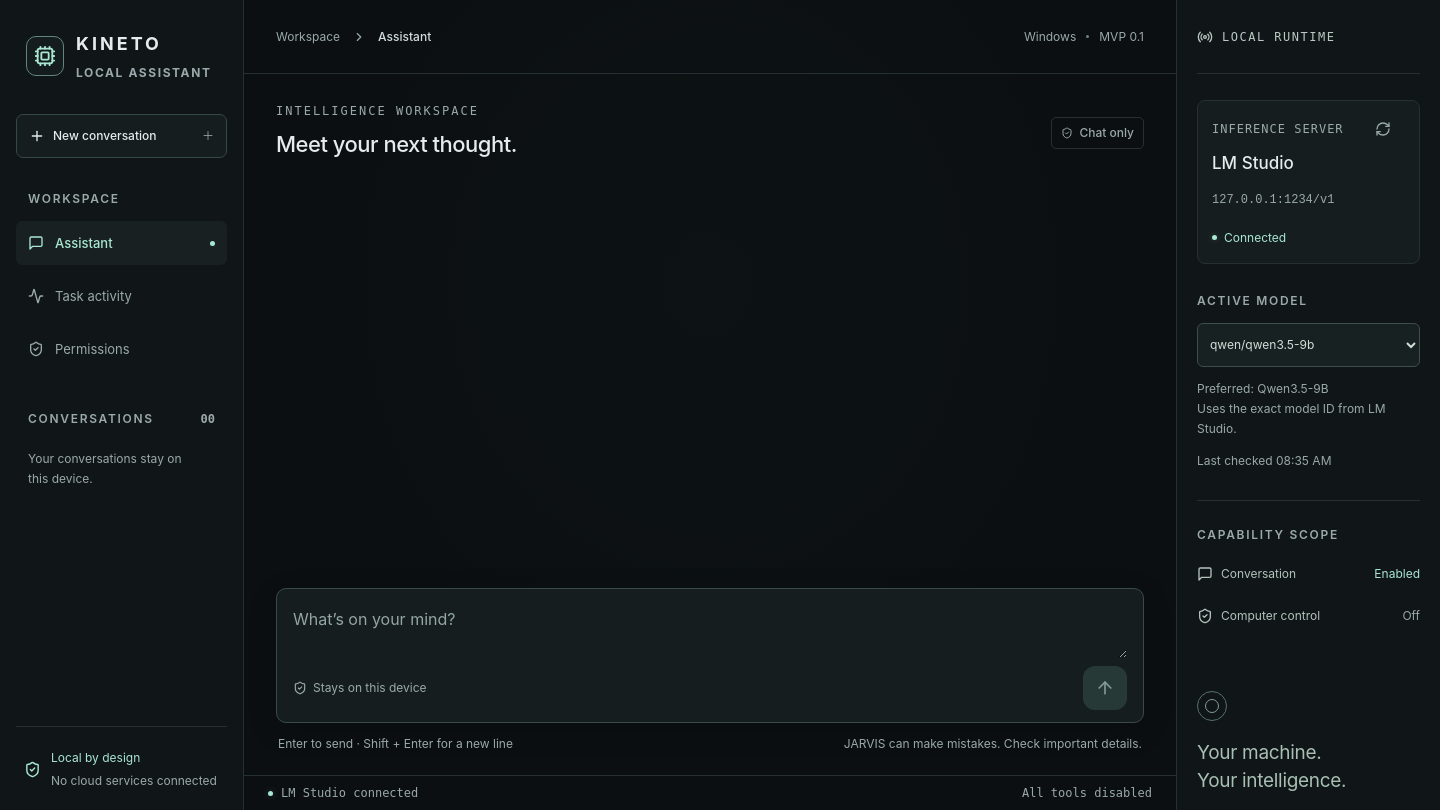
assistant workflow › streams a response, stops generation, and reloads durable history
Later steps or results of the test are not shown.
(page scrolled)
Expected: the dropdown labelled "ACTIVE MODEL" is enabled, [1197,322,1420,366]
In the text box named "Message JARVIS": coordinates (710, 630) [293,603,1127,658], type "Hello"
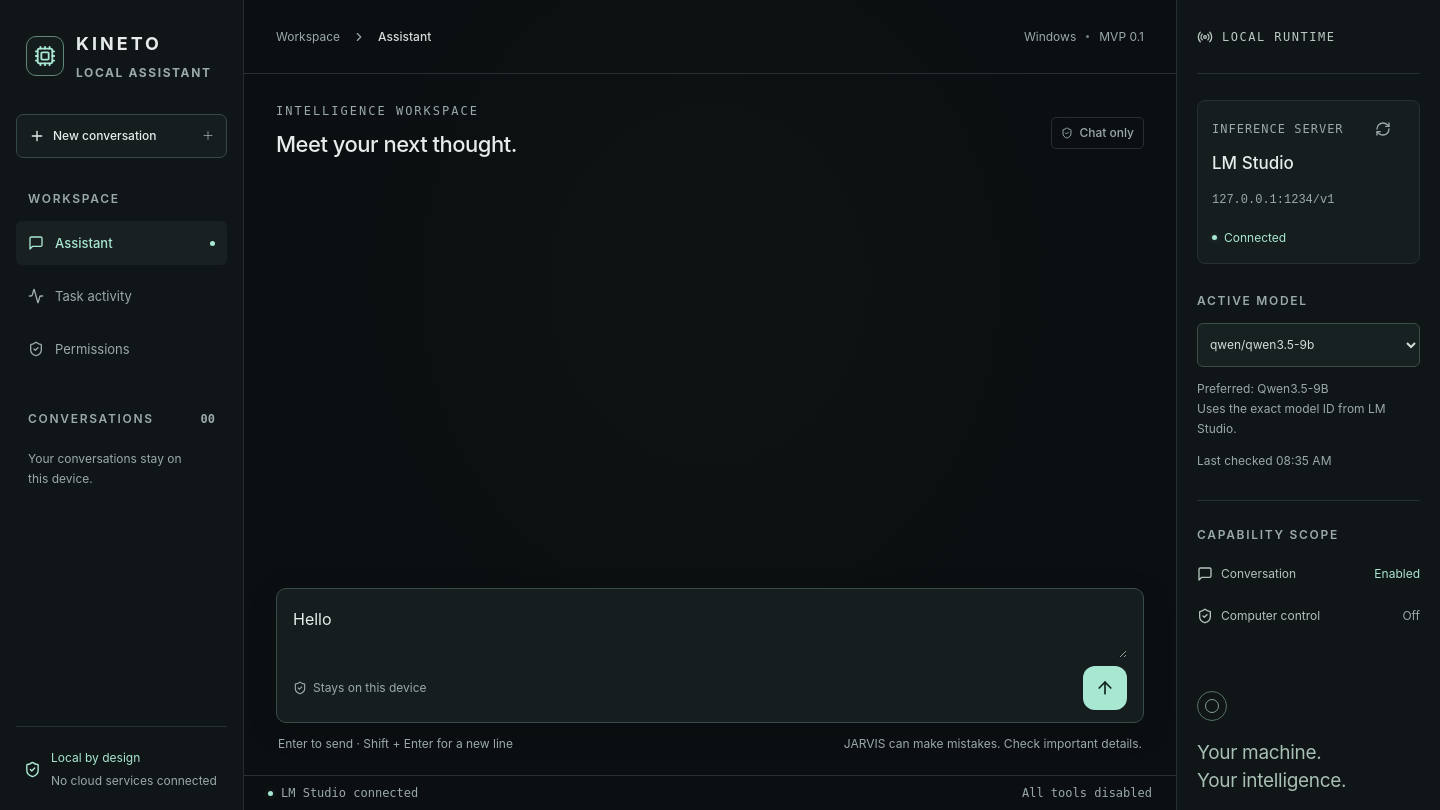
Now the button named "Send message" is enabled
Click the button named "Send message": coordinates (1105, 688) [1083,666,1127,710]
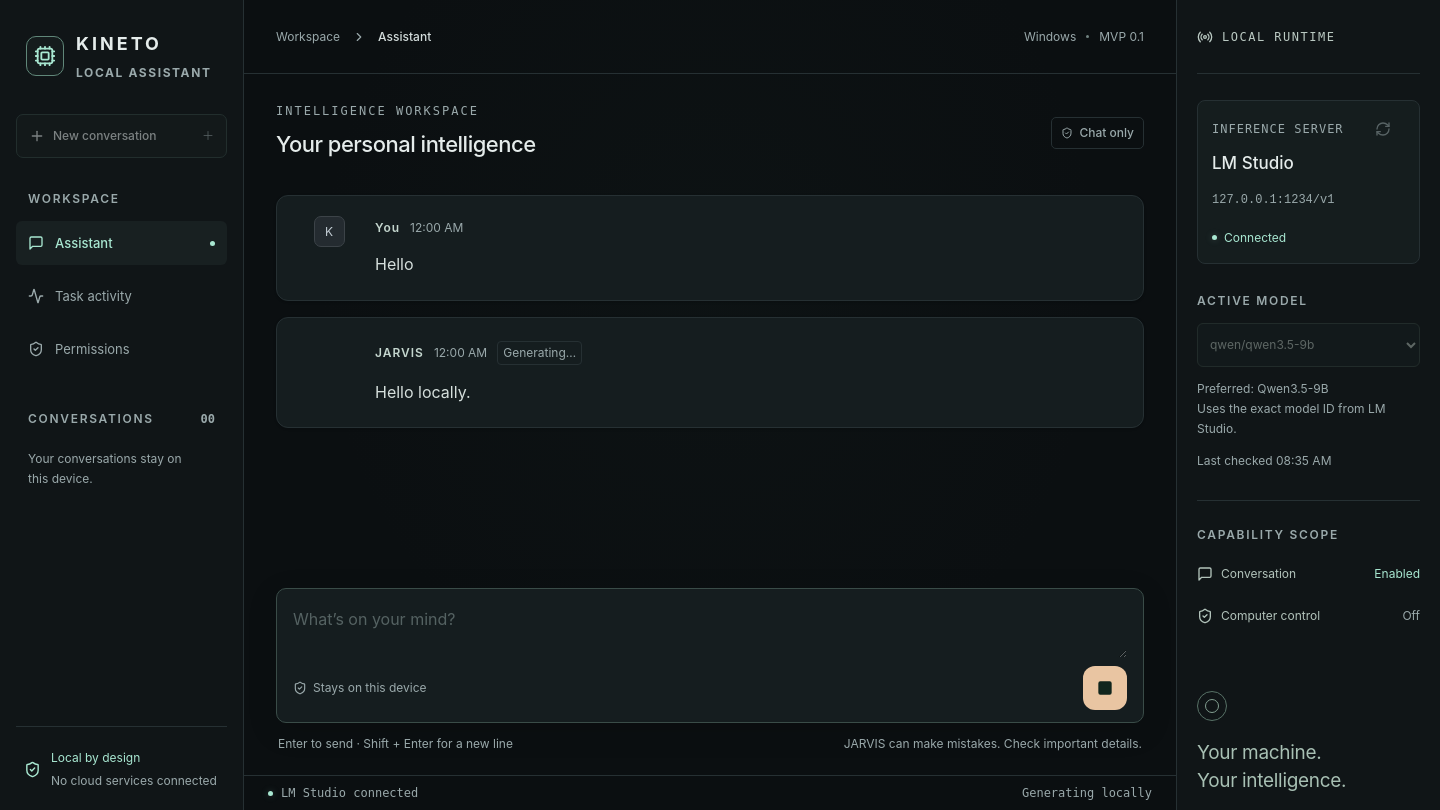
Now the text "Hello locally." is shown, box [375,382,470,402]
